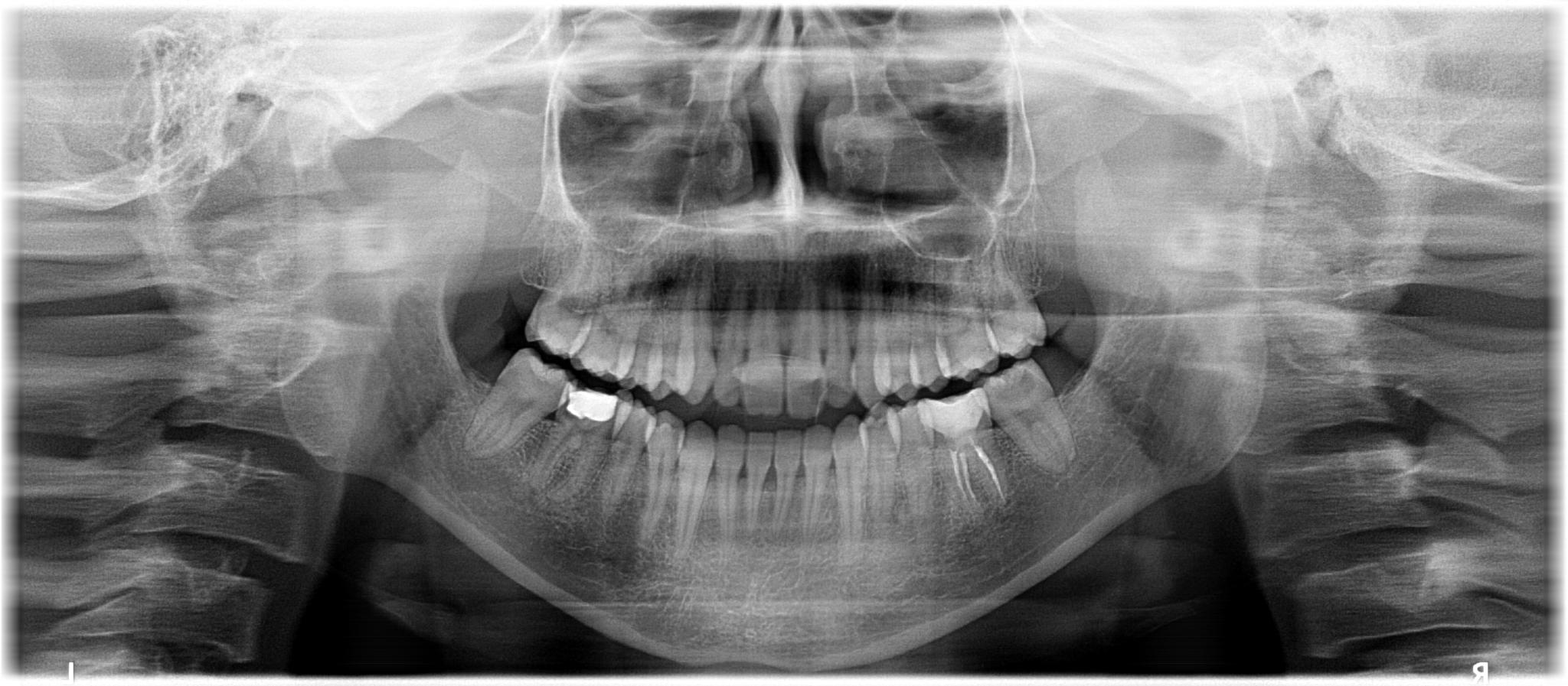Premolars: (502, 219, 1534, 686), (257, 245, 816, 686), (530, 186, 1559, 424), (291, 169, 844, 577), (317, 204, 841, 543)
